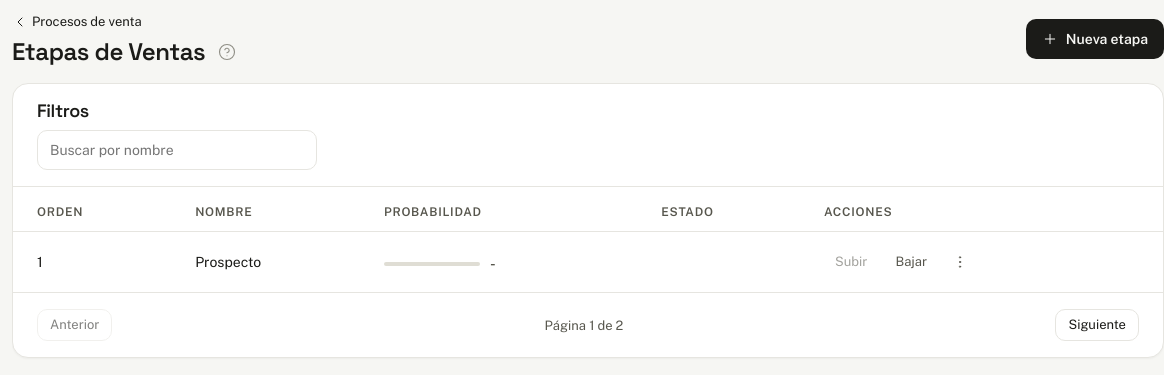
StageListPage › R1.10b paginado: 'Siguiente' pide page 2 y 'Anterior' está deshabilitado en la primera página
Check: the text "Página 1 de 2" is shown, box [545,316,623,335]
Check: the button "Anterior" is disabled, box [37,309,112,341]
Click the button "Siguiente". click: (1097, 325)
box: [1056,309,1139,341]
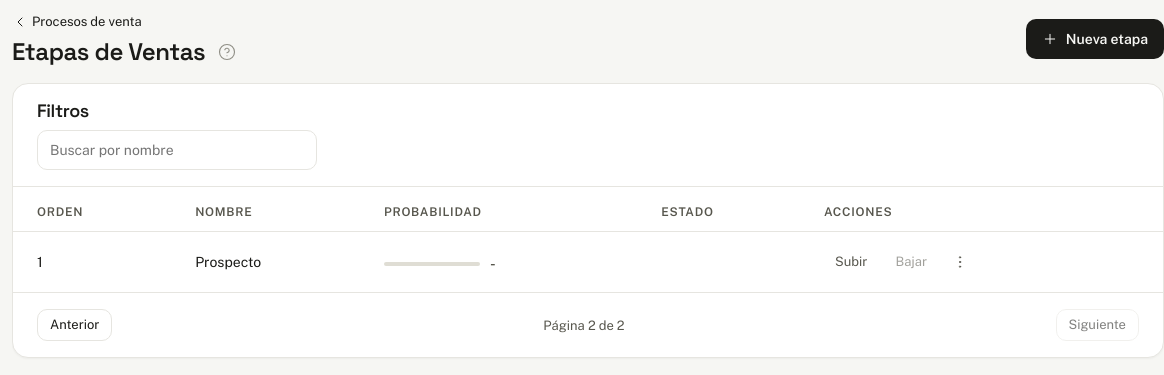
Check: the text "Página 2 de 2" is shown, box [543,316,625,335]
